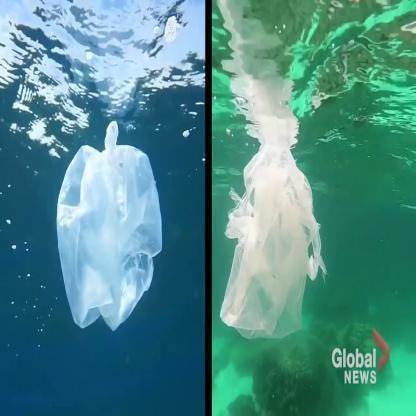Rác: (60, 115, 165, 326), (228, 127, 320, 347)
